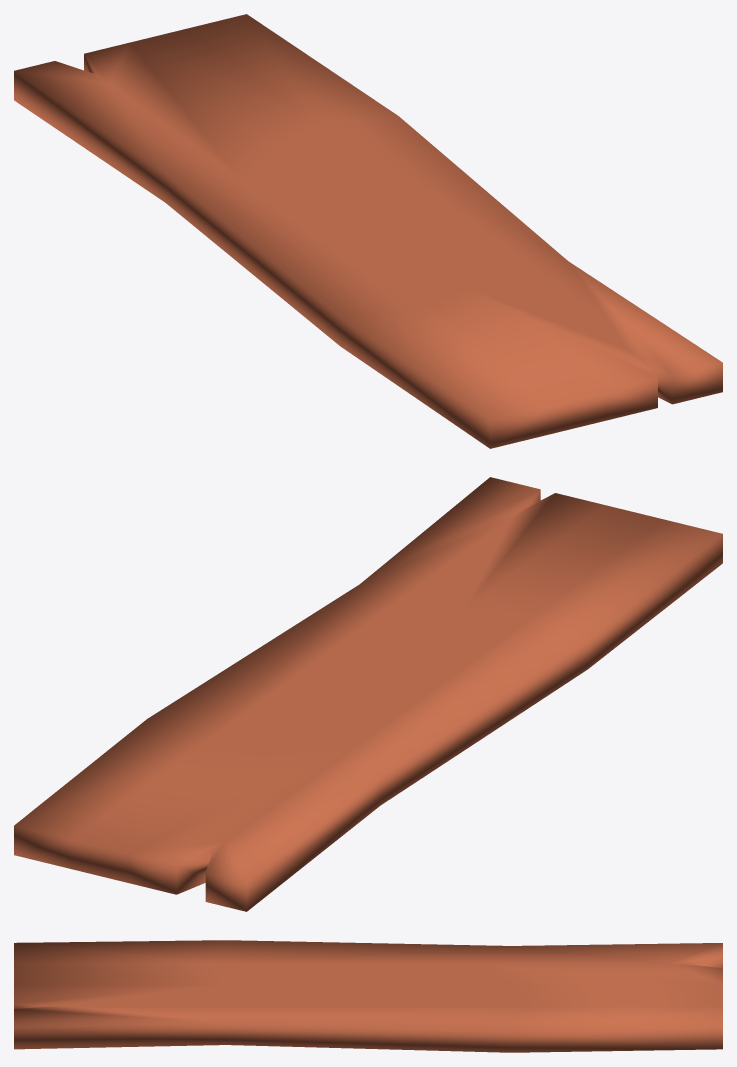
File: plank.fbx
The picture shows the model from 3 angles, top to bottom: view 1: azimuth 30°, elevation 25°; view 2: azimuth 150°, elevation 25°; view 3: azimuth 270°, elevation 25°; orthographic projection. The views are drawn at different scales.
Visible parts, largest first — view 1: POlank; view 2: POlank; view 3: POlank.
Part boxes in pixels (<box>): POlank: <box>14,14,722,448</box>; POlank: <box>14,477,722,911</box>; POlank: <box>14,940,722,1052</box>.
Size of the model in its own units: 26.75 by 3.02 by 88.42.
